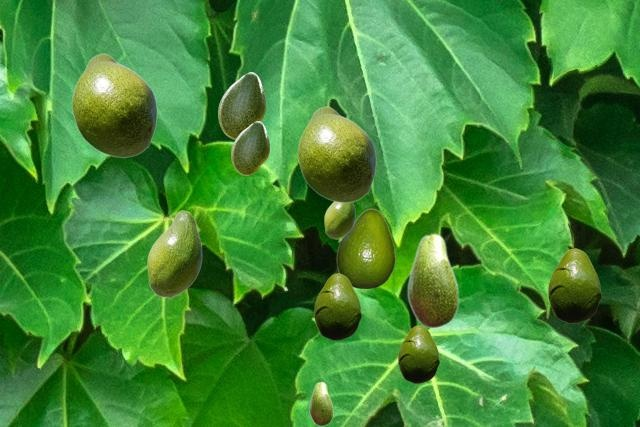avocado: (71, 53, 156, 157), (297, 106, 375, 202), (407, 232, 458, 328), (147, 210, 201, 297), (336, 208, 394, 287), (548, 248, 600, 322), (314, 273, 360, 339), (218, 72, 264, 138), (398, 325, 438, 382), (231, 121, 268, 174), (324, 202, 354, 238), (309, 381, 332, 425)
